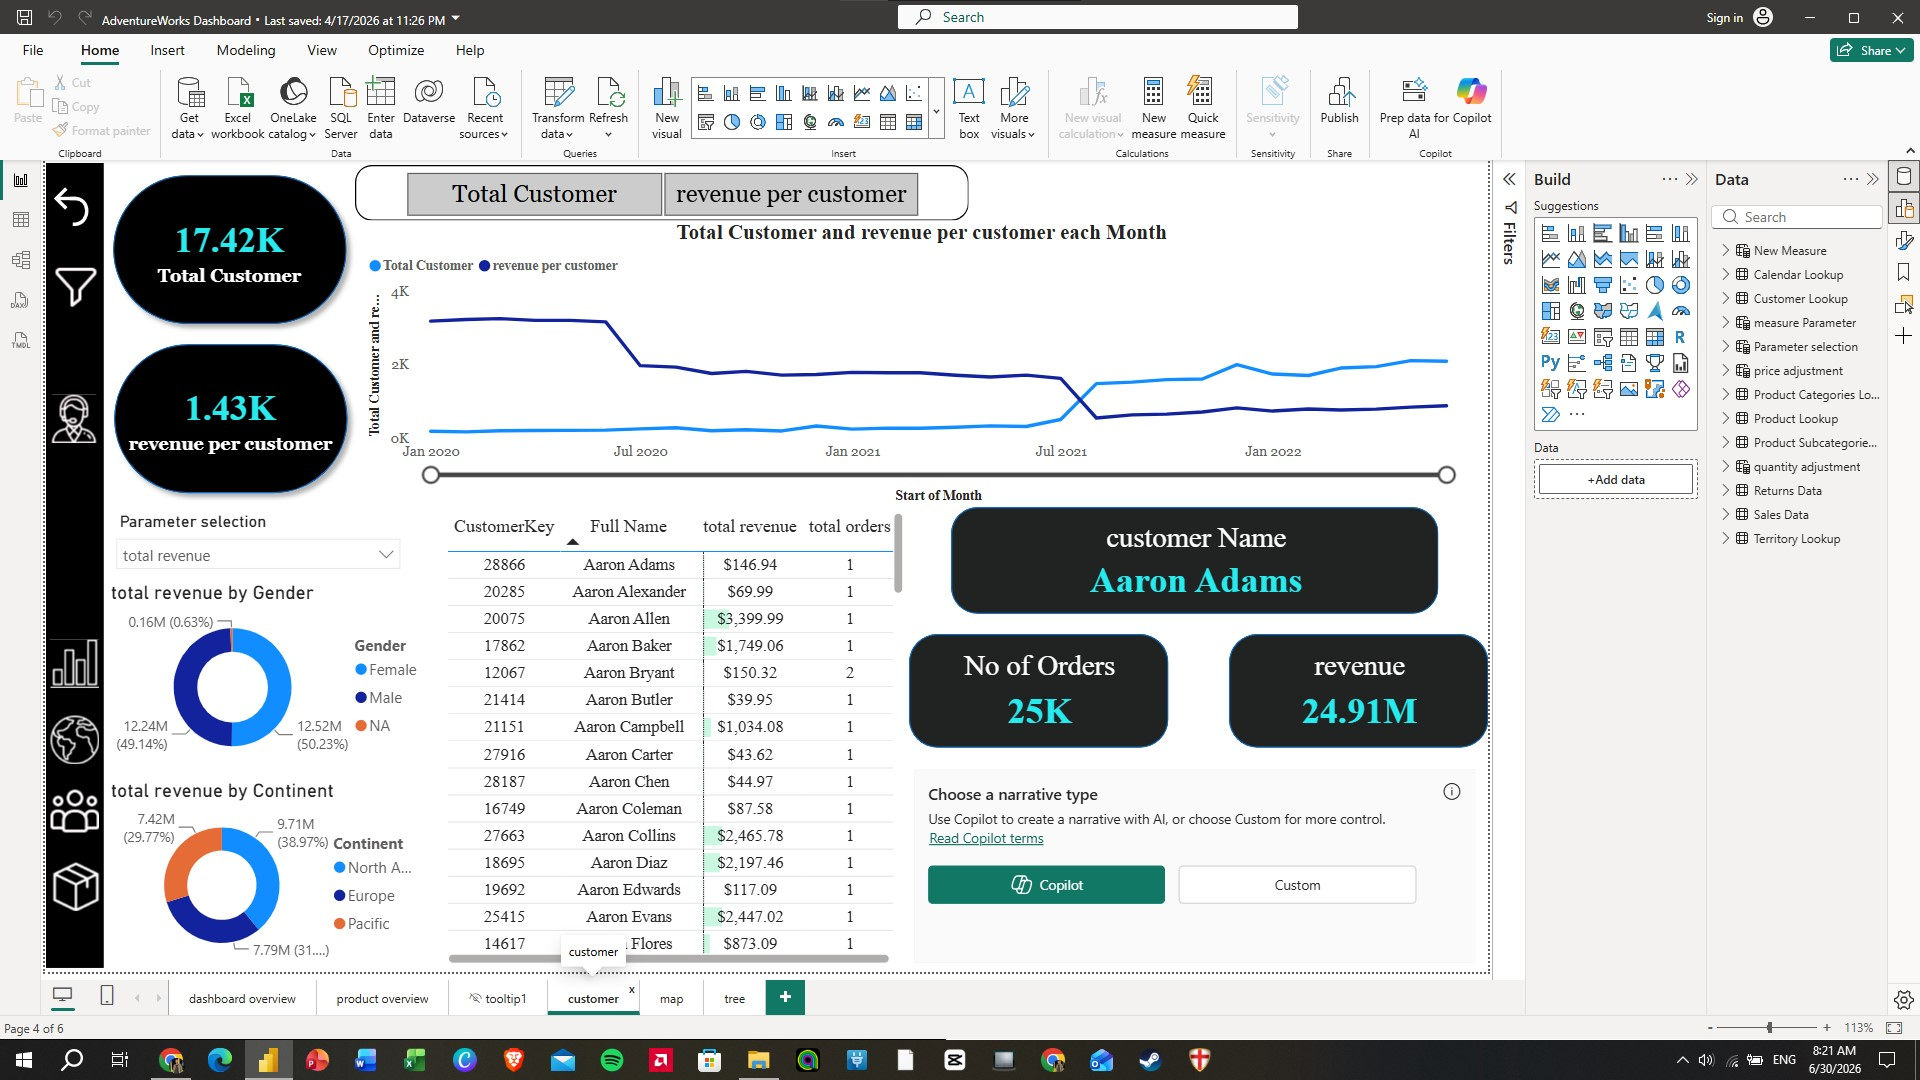

The dashboard page shown, as its layout file describes it:
{"tool":"powerbi","page":{"name":"customer","canvas":[1280,720],"ordinal":3},"visuals":[{"type":"group","id":"g1","title":"Group 6","box":[1,3,52.4,713.6],"z":0,"group":"g15"},{"type":"shape","title":"side bar","box":[1,3,51.4,713.6],"z":0,"group":"g1"},{"type":"group","id":"g2","title":"total customer","box":[51.4,4,224.8,150.2],"z":0},{"type":"shape","box":[51.4,4,225,150],"z":0,"group":"g2"},{"type":"shape","box":[275,4,544.3,49.4],"z":0,"group":"g9"},{"type":"lineChart","title":"Total Customer and revenue per customer each Month","fields":{"Category":["Calendar Lookup.Start of Month"],"Y":["New Measure.Total Customer","New Measure.revenue per customer"]},"box":[282.2,53.1,990.8,254.3],"z":0,"group":"g11"},{"type":"shape","box":[52.4,154.2,225,150.2],"z":0,"group":"g10"},{"type":"group","id":"g3","title":"Group 3","box":[803.3,307.4,432.4,94.7],"z":0,"group":"g4"},{"type":"group","id":"g4","title":"Group 1","box":[803.3,307.4,432.4,94.7],"z":0,"group":"g12"},{"type":"shape","box":[803.3,307.4,432.4,94.7],"z":0,"group":"g3"},{"type":"group","id":"g5","title":"Group 1","box":[766,420.3,230,100.8],"z":0,"group":"g13"},{"type":"group","id":"g6","title":"Group 3","box":[766,420.3,230,100.8],"z":0,"group":"g5"},{"type":"shape","box":[766,420.3,230,100.8],"z":0,"group":"g6"},{"type":"shape","box":[1050.2,420.3,230,100.8],"z":0,"group":"g7"},{"type":"group","id":"g7","title":"Group 3","box":[1050.2,420.3,230,100.8],"z":0,"group":"g8"},{"type":"group","id":"g8","title":"Group 1","box":[1050.2,420.3,230,100.8],"z":0,"group":"g14"},{"type":"group","id":"g9","title":"Group 2","box":[275,4,544.3,49.4],"z":1000,"group":"g11"},{"type":"slicer","fields":{"Values":["measure Parameter .measure Parameter "]},"box":[295.1,4,503.4,49.4],"z":1000,"group":"g9"},{"type":"actionButton","title":"back","box":[1,18.8,52.3,45.2],"z":1000,"group":"g1"},{"type":"card","fields":{"Values":["New Measure.Total Customer"]},"box":[90.7,30.2,146.1,95.7],"z":1000,"group":"g2"},{"type":"group","id":"g10","title":"revenue per customer","box":[52.4,154.2,224.8,150.2],"z":1000},{"type":"card","fields":{"Values":["New Measure.revenue per customer"]},"box":[61.5,180.2,206.6,95.7],"z":1000,"group":"g10"},{"type":"actionButton","box":[0,196.5,51.4,67.5],"z":1000,"group":"g15"},{"type":"card","title":"customer Name ","fields":{"Values":["Min(Customer Lookup.Full Name)"]},"box":[839.6,319.8,362.2,74.5],"z":1000,"group":"g3"},{"type":"card","title":"No of Orders","fields":{"Values":["New Measure.total orders"]},"box":[785.3,433.5,192.7,79.2],"z":1000,"group":"g6"},{"type":"card","title":"revenue","fields":{"Values":["New Measure.total revenue"]},"box":[1069.5,433.5,192.7,79.2],"z":1000,"group":"g7"},{"type":"group","id":"g11","title":"line chart","box":[275,4,998,303.4],"z":2000},{"type":"actionButton","title":"map button","box":[1,480.8,51.4,67.4],"z":2000,"group":"g1"},{"type":"tableEx","title":"top 100 customer","fields":{"Values":["Sales Data.CustomerKey","Customer Lookup.Full Name","New Measure.total revenue","New Measure.total orders"]},"box":[350.7,307.4,415.2,410.2],"z":3000},{"type":"actionButton","title":"dashboard","box":[1,413.4,51.4,67.4],"z":3000,"group":"g1"},{"type":"actionButton","title":"customer","box":[1,543.7,51.4,67.4],"z":4000,"group":"g1"},{"type":"donutChart","fields":{"Category":["Territory Lookup.Continent"],"Y":["New Measure.total revenue"]},"box":[53.4,549.3,292.3,169.3],"z":4000},{"type":"slicer","title":"parameter customer","fields":{"Values":["Parameter selection.Parameter selection"]},"box":[53.4,307.4,272.1,65.5],"z":5000},{"type":"actionButton","title":"product","box":[1.9,611.1,51.4,67.4],"z":5000,"group":"g1"},{"type":"actionButton","box":[2,84.6,51.4,54.4],"z":6000,"group":"g1"},{"type":"donutChart","fields":{"Category":["Customer Lookup.Gender"],"Y":["New Measure.total revenue"]},"box":[53.4,372.9,292.3,169.3],"z":6000},{"type":"group","id":"g12","title":"top customer","box":[803.3,307.4,432.4,94.7],"z":7000},{"type":"group","id":"g13","title":"number of orders","box":[766,420.3,230,100.8],"z":8000},{"type":"group","id":"g14","title":"revenue","box":[1050.2,420.3,230,100.8],"z":9000},{"type":"aiNarratives","box":[766,535.2,507,181.4],"z":10000},{"type":"group","id":"g15","title":"toolbar","box":[0,3,53.4,713.6],"z":11000}]}

Visuals, with their boxes on the page's 1280x720 design canvas (x1, y1, x2, y2). These are canvas units, not pixel positions in the 1920x1080 screenshot, which may show the page scaled, cropped or inside an application window:
"Group 6" group: locate(1, 3, 53, 717)
"side bar" shape: locate(1, 3, 52, 717)
"total customer" group: locate(51, 4, 276, 154)
shape: locate(51, 4, 276, 154)
shape: locate(275, 4, 819, 53)
"Total Customer and revenue per customer each Month" lineChart: locate(282, 53, 1273, 307)
shape: locate(52, 154, 277, 304)
"Group 3" group: locate(803, 307, 1236, 402)
"Group 1" group: locate(803, 307, 1236, 402)
shape: locate(803, 307, 1236, 402)
"Group 1" group: locate(766, 420, 996, 521)
"Group 3" group: locate(766, 420, 996, 521)
shape: locate(766, 420, 996, 521)
shape: locate(1050, 420, 1280, 521)
"Group 3" group: locate(1050, 420, 1280, 521)
"Group 1" group: locate(1050, 420, 1280, 521)
"Group 2" group: locate(275, 4, 819, 53)
slicer - measure Parameter .measure Parameter : locate(295, 4, 798, 53)
"back" actionButton: locate(1, 19, 53, 64)
card - New Measure.Total Customer: locate(91, 30, 237, 126)
"revenue per customer" group: locate(52, 154, 277, 304)
card - New Measure.revenue per customer: locate(62, 180, 268, 276)
actionButton: locate(0, 196, 51, 264)
"customer Name " card: locate(840, 320, 1202, 394)
"No of Orders" card: locate(785, 434, 978, 513)
"revenue" card: locate(1070, 434, 1262, 513)
"line chart" group: locate(275, 4, 1273, 307)
"map button" actionButton: locate(1, 481, 52, 548)
"top 100 customer" tableEx: locate(351, 307, 766, 718)
"dashboard" actionButton: locate(1, 413, 52, 481)
"customer" actionButton: locate(1, 544, 52, 611)
donutChart - Territory Lookup.Continent x New Measure.total revenue: locate(53, 549, 346, 719)
"parameter customer" slicer: locate(53, 307, 326, 373)
"product" actionButton: locate(2, 611, 53, 678)
actionButton: locate(2, 85, 53, 139)
donutChart - Customer Lookup.Gender x New Measure.total revenue: locate(53, 373, 346, 542)
"top customer" group: locate(803, 307, 1236, 402)
"number of orders" group: locate(766, 420, 996, 521)
"revenue" group: locate(1050, 420, 1280, 521)
aiNarratives: locate(766, 535, 1273, 717)
"toolbar" group: locate(0, 3, 53, 717)
